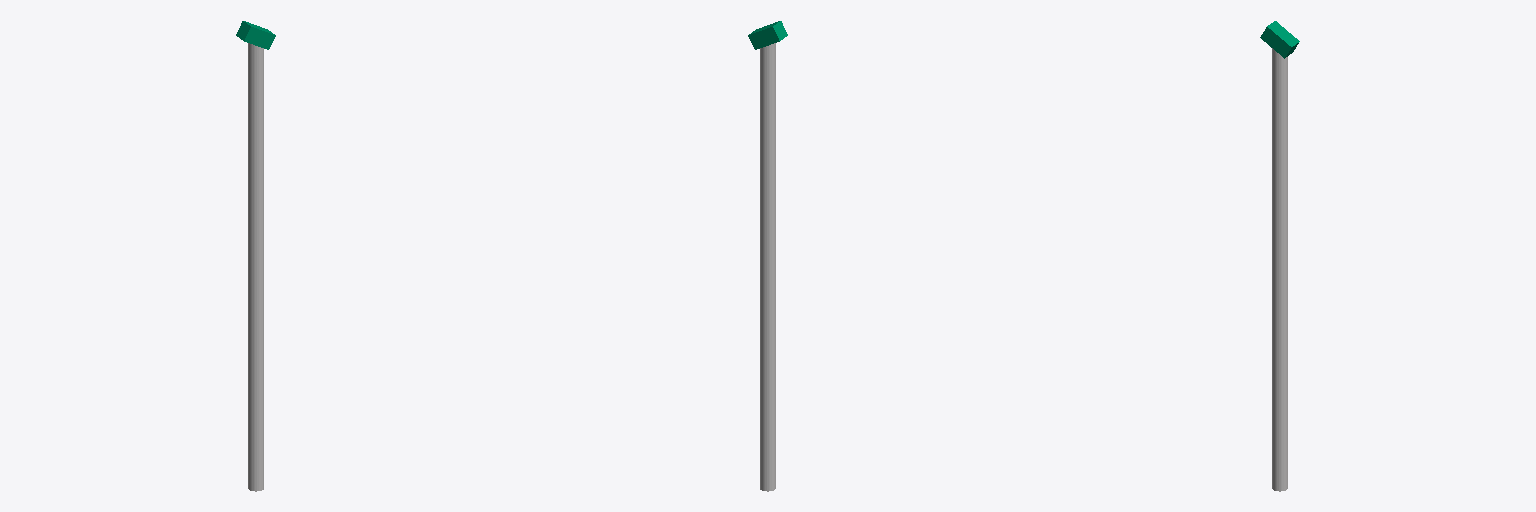
URDF robot description (camera_right):
<?xml version="1.0" encoding="utf-8"?>
<robot
  name="camera_right">

  <link name="world" />

  <joint name="base_joint" type="fixed">
    <parent link="world"/>
    <child link="body" />
    <origin xyz="0 0 0.010" rpy="0 0 0"/>
  </joint>

  <link name="body">
    <inertial>
      <origin
        xyz="0 0 1.5"
        rpy="0 0 0" />
      <mass
        value="1" />
      <inertia
        ixx="0.003958333"
        ixy="0"
        ixz="0"
        iyy="0.003958333"
        iyz="0"
        izz="0.02" />
    </inertial>
    
    <visual>
      <origin
          xyz="0 0 1.5"
          rpy="0 0 0" />
      <geometry>
        <cylinder length="3" radius="0.05"/>
      </geometry>
      <material
        name="">
        <color
          rgba="0.84706 0.83922 0.83922 1" />
      </material>
    </visual>

    <collision>
      <origin
        xyz="0 0 1.5"
        rpy="0 0 0" />
      <geometry>
        <cylinder length="3" radius="0.05"/>
      </geometry>
    </collision>
    </link>


    <joint name="camera_joint_0" type="fixed">
        <origin xyz="0 0 3" rpy="0 0.523599 0"/>
        <parent link="body"/>
        <child link="camera_link_0"/>
    </joint>



    <link name="camera_link_0">
        <visual>
            <origin xyz="0 0 0" rpy="0 0 0"/>
            <geometry>
                <box size="0.2 0.1 0.1" />
            </geometry>
        </visual>
        <collision>
            <origin xyz="0.003 0.065 0.007" rpy="0 0 0"/>
            <geometry>
                <box size="0.012 0.132 0.020"/>
            </geometry>
        </collision>   
    </link>
    <!--gazebo reference="body">
        <mu1>1</mu1>
        <mu2>1</mu2>
        <fdir1>1 0 0</fdir1>
        <kp>1e+13</kp>
        <kd>1</kd>
        <maxVel>0</maxVel>
        <minDepth>0.0000001</minDepth>
        <gravity>1</gravity>
        <material>Gazebo/Grey</material>
    </gazebo-->

    <!--gazebo reference="camera_link_0">
        <sensor type="camera" name="camera_right_0">
        <update_rate>100.0</update_rate>
            <camera name="head">
                <horizontal_fov>1.3962634</horizontal_fov>
                <image>
                <width>640</width>
                <height>320</height>
                <format>R8G8B8</format>
                </image>
            </camera>        
            <plugin name="camera_controller" filename="libgazebo_ros_camera.so">
                <alwaysOn>true</alwaysOn>
                <updateRate>0.0</updateRate>
                <cameraName>camera_right_0</cameraName>
                <imageTopicName>image_raw</imageTopicName>
                <cameraInfoTopicName>camera_info</cameraInfoTopicName>
                <frameName>camera_link_0</frameName>
                <hackBaseline>0.07</hackBaseline>
                <distortionK1>0.0</distortionK1>
                <distortionK2>0.0</distortionK2>
                <distortionK3>0.0</distortionK3>
                <distortionT1>0.0</distortionT1>
                <distortionT2>0.0</distortionT2>
            </plugin>
        </sensor>
    </gazebo-->

    <gazebo reference="camera_link_0">
      <sensor name="camera_right_top_ir" type="depth">
        <update_rate>0</update_rate>
        <camera>
          <horizontal_fov>1.50098</horizontal_fov>
          <image>
            <width>640</width>
            <height>480</height>
            <format>R8G8B8</format>
          </image>
          <clip>
            <near>0.1</near>
            <far>100</far>
          </clip>
        </camera>
        <plugin name="camera_right_top_ir_controller" filename="libgazebo_ros_openni_kinect.so">
          <baseline>0.1</baseline>
          <alwaysOn>true</alwaysOn>
          <update_rate>0</update_rate>
          <cameraName>camera_right_top_ir</cameraName>
          <imageTopicName>camera_right_top_ir/color/image_raw</imageTopicName>
          <cameraInfoTopicName>/camera_right_top_ir/color/camera_info</cameraInfoTopicName>
          <depthImageTopicName>/camera_right_top_ir/depth/image_raw</depthImageTopicName>
          <depthImageInfoTopicName>/camera_right_top_ir/depth/camera_info</depthImageInfoTopicName>
          <pointCloudTopicName>/camera_right_top_ir/depth/points</pointCloudTopicName>
          <frameName>camera_link_0</frameName>
          <pointCloudCutoff>0.4</pointCloudCutoff>
          <pointCloudCutoffMax>20.0</pointCloudCutoffMax>
          <distortionK1>0.00000001</distortionK1>
          <distortionK2>0.00000001</distortionK2>
          <distortionK3>0.00000001</distortionK3>
          <distortionT1>0.00000001</distortionT1>
          <distortionT2>0.00000001</distortionT2>
          <CxPrime>0</CxPrime>
          <Cx>320</Cx>
          <Cy>240</Cy>
          <focalLength>0</focalLength>
          <hackBaseline>0</hackBaseline>
        </plugin>
      </sensor>
    </gazebo>



    <!--gazebo reference="camera_link_1">
        <sensor type="camera" name="camera_right_1">
        <update_rate>100.0</update_rate>
            <camera name="head">
                <horizontal_fov>1.3962634</horizontal_fov>
                <image>
                <width>640</width>
                <height>320</height>
                <format>R8G8B8</format>
                </image>
            </camera>        
            <plugin name="camera_controller" filename="libgazebo_ros_camera.so">
                <alwaysOn>true</alwaysOn>
                <updateRate>0.0</updateRate>
                <cameraName>camera_right_1</cameraName>
                <imageTopicName>image_raw</imageTopicName>
                <cameraInfoTopicName>camera_info</cameraInfoTopicName>
                <frameName>camera_link_1</frameName>
                <hackBaseline>0.07</hackBaseline>
                <distortionK1>0.0</distortionK1>
                <distortionK2>0.0</distortionK2>
                <distortionK3>0.0</distortionK3>
                <distortionT1>0.0</distortionT1>
                <distortionT2>0.0</distortionT2>
            </plugin>
        </sensor>
    </gazebo-->

</robot>

--- Render facts (derived) ---
Views: 3 orthographic renders of the robot side by side, from view 1: azimuth 30°, elevation 25°; view 2: azimuth 150°, elevation 25°; view 3: azimuth 330°, elevation 25°.
Model camera_right with 3 links and 2 joints (2 fixed), rooted at world, posed every joint at zero.
Visible links, largest first — view 1: body, camera_link_0; view 2: body, camera_link_0; view 3: body, camera_link_0.
Boxes of the visible links, left/top/right/bottom form: body: left=248, top=43, right=263, bottom=491; camera_link_0: left=236, top=21, right=275, bottom=49; body: left=760, top=43, right=775, bottom=491; camera_link_0: left=748, top=21, right=787, bottom=49; body: left=1272, top=48, right=1287, bottom=491; camera_link_0: left=1260, top=21, right=1299, bottom=58.
Bounding box of the posed robot: 0.2232 × 0.1 × 3.09 m (x, y, z).
Geometry: primitives only (box / cylinder / sphere), no mesh files.
